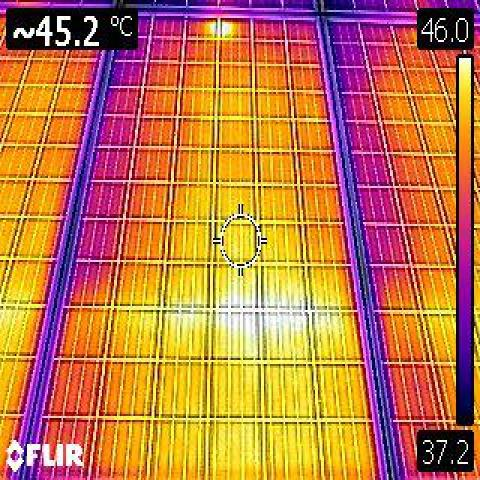fault: (222, 283, 330, 354), (206, 19, 232, 37)
